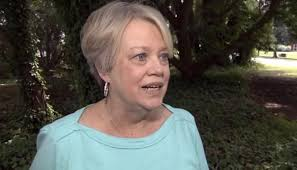white_female: (111, 36, 178, 113)
